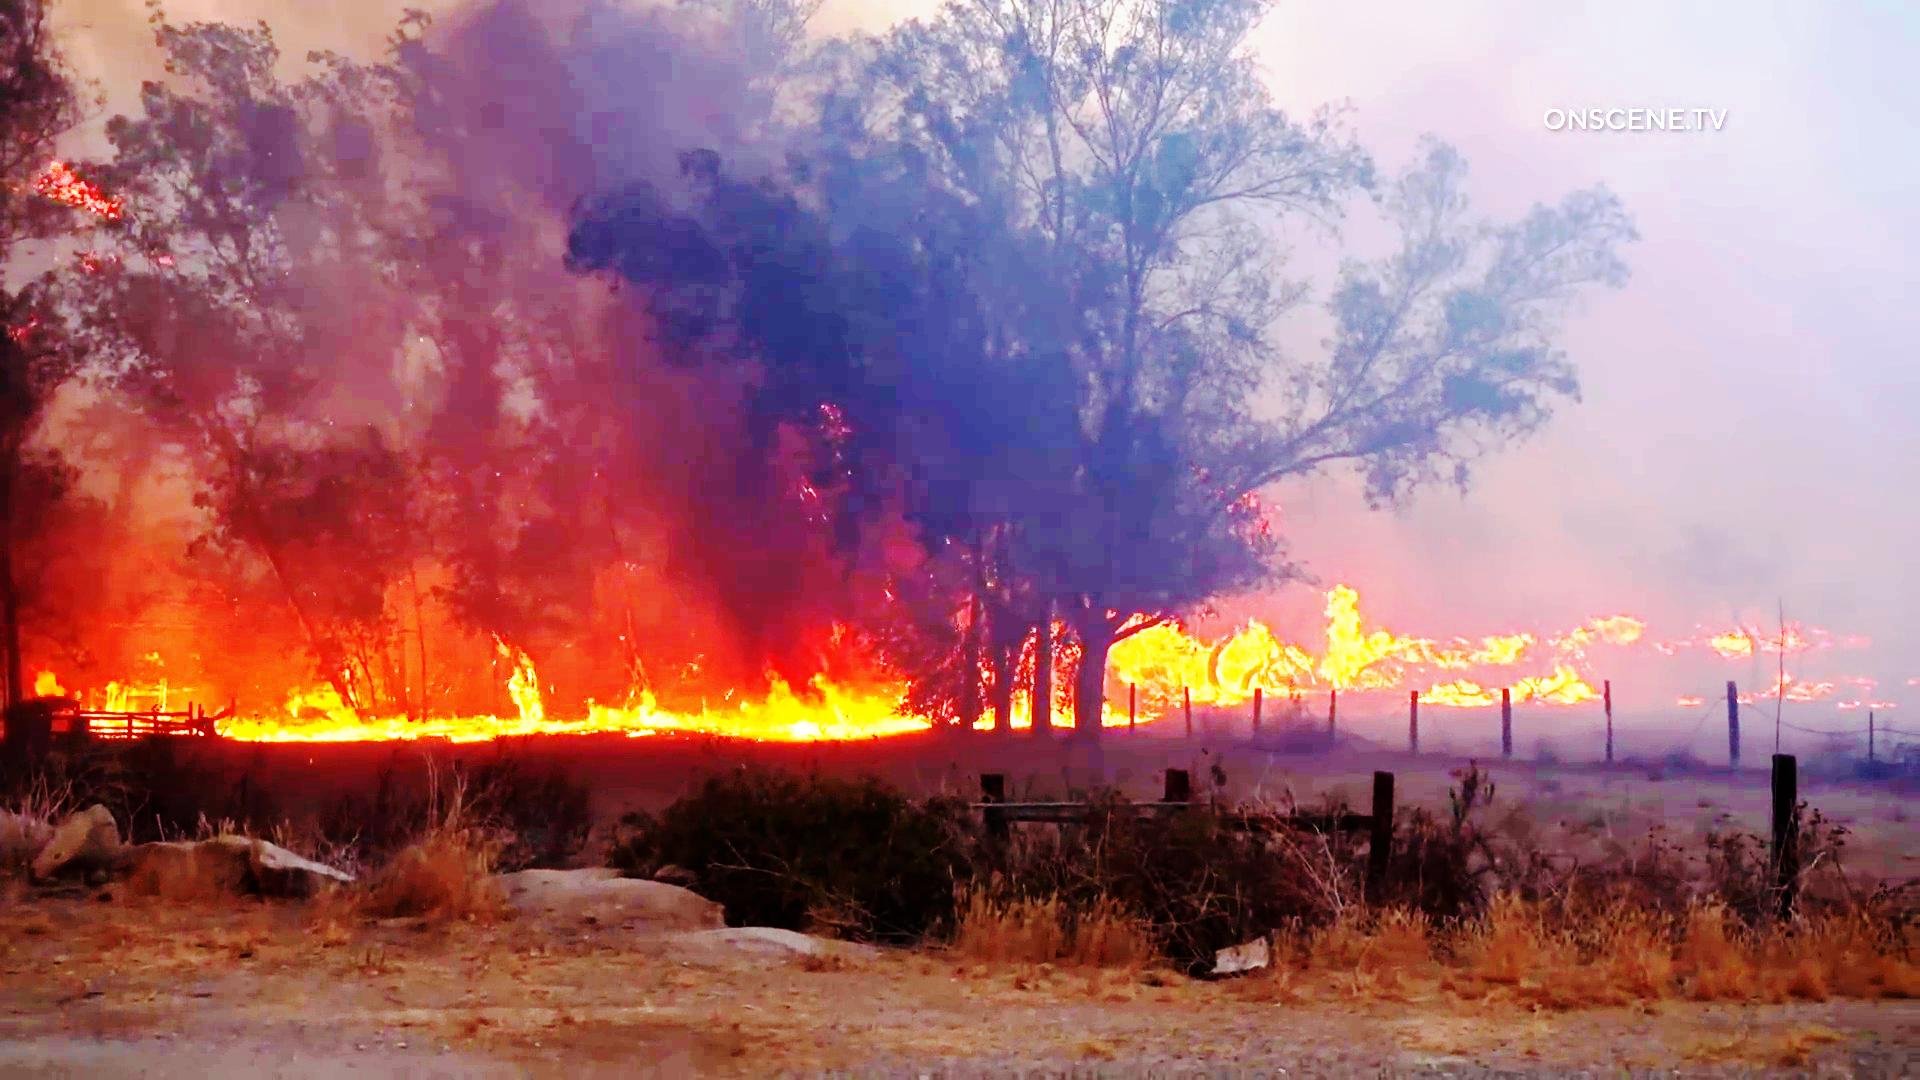fire: (36, 647, 920, 742), (1116, 596, 1357, 707)
smoke: (1652, 173, 1878, 593)
